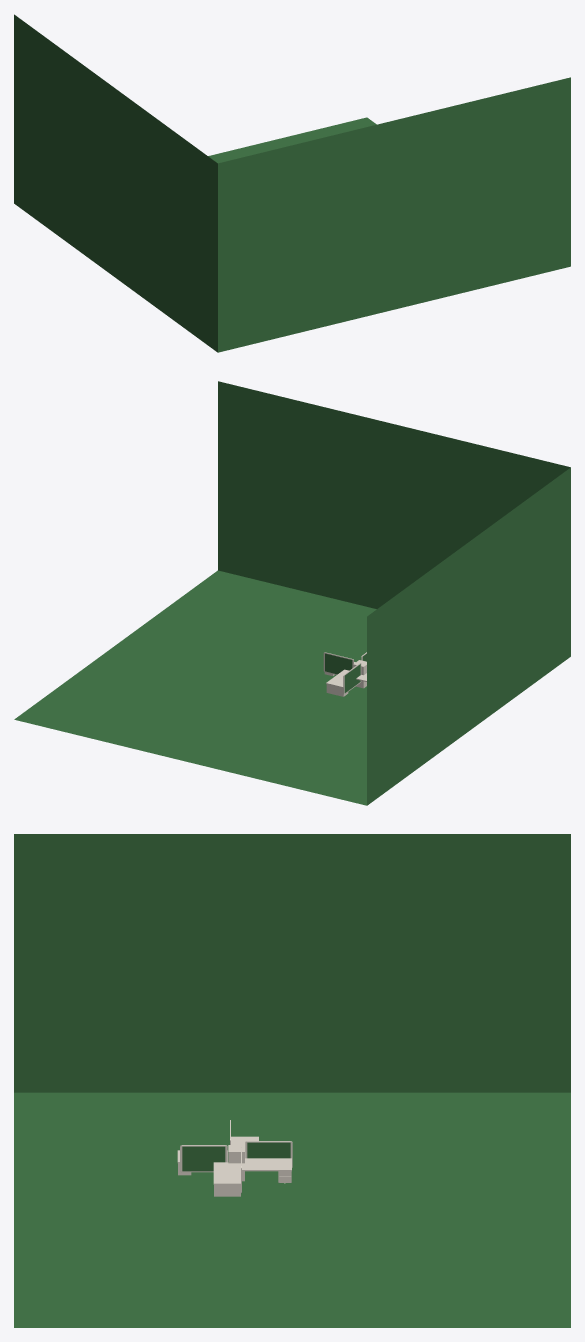
File: severance_tv_show_office.glb
The picture shows the model from 3 angles, top to bottom: view 1: azimuth 30°, elevation 25°; view 2: azimuth 150°, elevation 25°; view 3: azimuth 270°, elevation 25°; orthographic projection. The views are drawn at different scales.
Visible parts, largest first — view 1: Plane_17; view 2: Plane_17; view 3: Plane_17, Cube.007_7, Cube.003_3, Cube.009_9, Cube.015_15.
Boxes of the visible parts, x1,y1,x2,y2 form: Plane_17: (14,14,570,352); Plane_17: (14,381,570,805); Plane_17: (14,834,570,1327); Cube.007_7: (182,1146,225,1171); Cube.003_3: (247,1142,290,1158); Cube.009_9: (242,1158,291,1171); Cube.015_15: (213,1162,240,1184).
Bounding box in the file's own units: 1021 × 531 × 1021.
